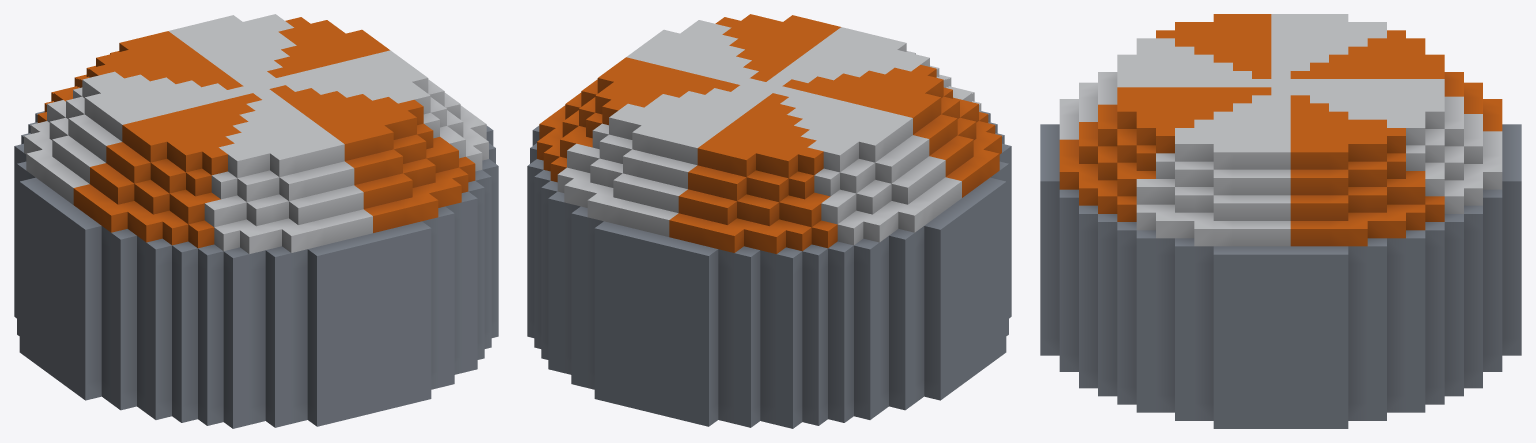
Rendered from parachute.glb.
3 renders of one model, left to right at view 1: azimuth 30°, elevation 25°; view 2: azimuth 150°, elevation 25°; view 3: azimuth 270°, elevation 25°, orthographic. The views are drawn at different scales.
Parts seen in each view (by area): view 1: parachute; view 2: parachute; view 3: parachute.
Part boxes in pixels (box(x1,y1,x2,y2)): parachute: box(14, 14, 498, 428); parachute: box(527, 14, 1011, 428); parachute: box(1040, 14, 1521, 428).
Size of the model in its own units: 1.25 by 0.7 by 1.25.
